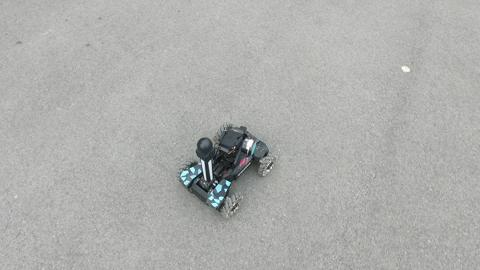chariot: (174, 106, 281, 227)
